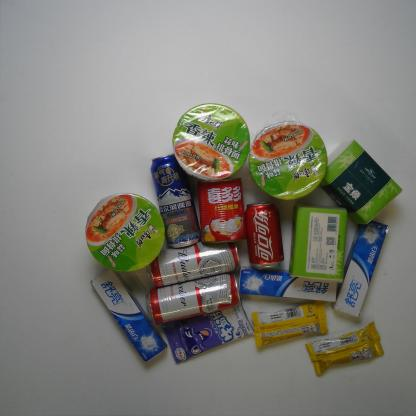Alcohol: (146, 150, 203, 250), (144, 270, 242, 326), (146, 235, 241, 288)
Candy: (162, 290, 256, 366)
Canned Food: (194, 172, 251, 247)
Chocolate: (304, 319, 385, 378), (250, 297, 329, 351)
Drink: (242, 198, 290, 274)
Instant Noodles: (83, 192, 167, 276), (247, 120, 330, 203), (169, 102, 251, 184)
Personal Hygiene: (89, 267, 168, 366), (329, 214, 390, 323), (236, 265, 341, 304)
Tissue: (312, 135, 404, 227), (287, 201, 350, 284)
